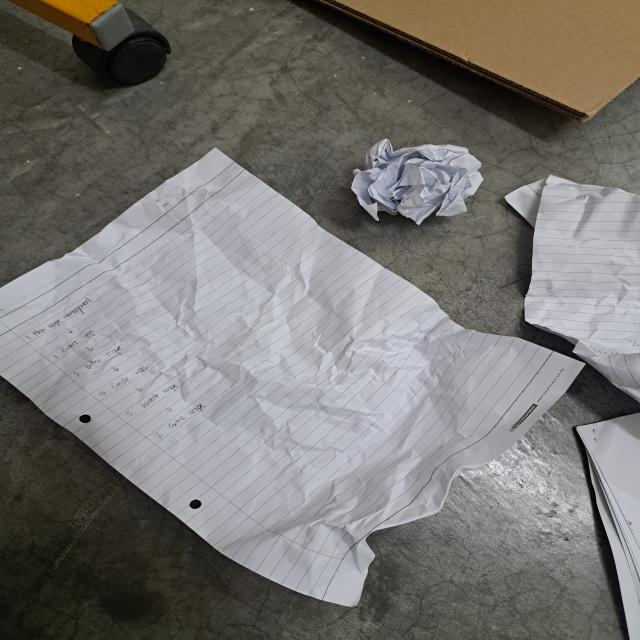cardboard: (319, 0, 640, 124)
paper: (0, 147, 588, 608), (504, 176, 640, 411), (574, 412, 640, 640), (351, 139, 485, 224)
